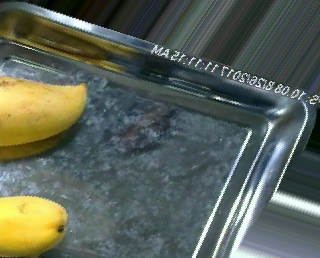Mango: (0, 76, 86, 148), (0, 195, 69, 258)
